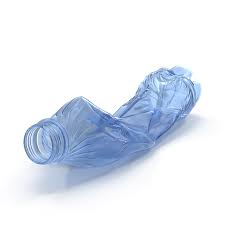bottle: (26, 69, 200, 168)
plastic: (23, 67, 201, 171)
